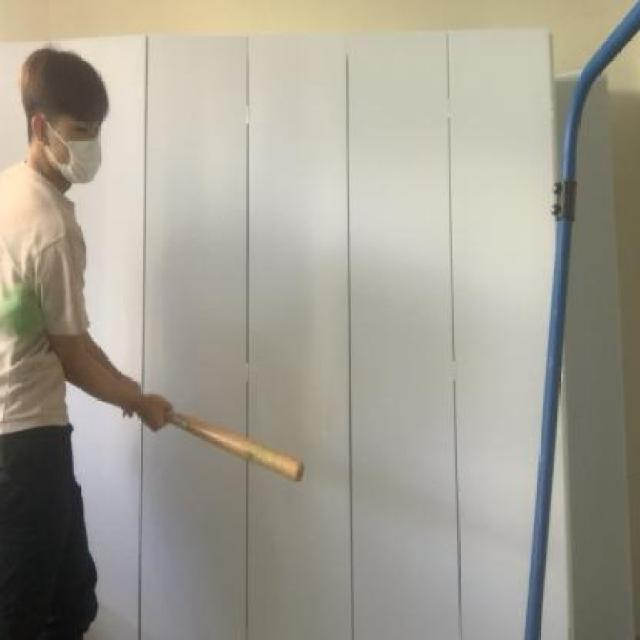baseball: (0, 267, 68, 361)
